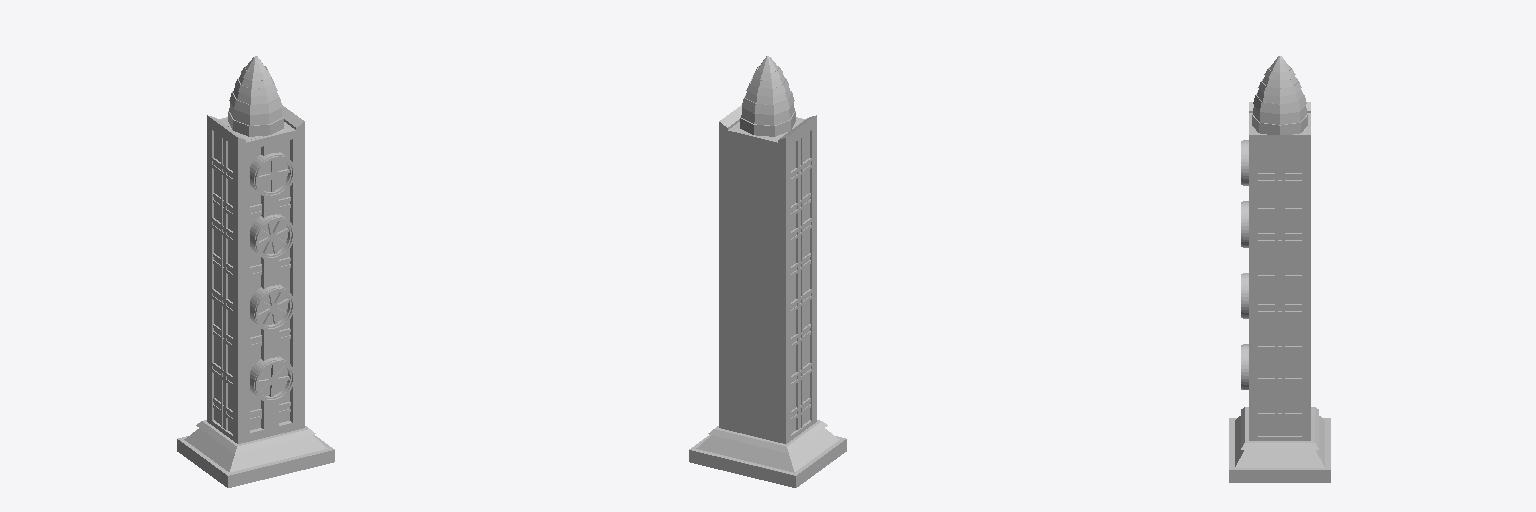
File: tower.obj
The picture shows the model from 3 angles: view 1: azimuth 30°, elevation 25°; view 2: azimuth 150°, elevation 25°; view 3: azimuth 270°, elevation 25°; orthographic projection.
Visible parts, largest first — view 1: structure Pillar, Pillar logos, Pillar detail, Pillar detail1, Pillar detail3; view 2: structure Pillar, Pillar detail, Pillar detail3; view 3: structure Pillar, Pillar detail, Pillar detail2, Pillar logos.
Part boxes in pixels (x1,y1,x2,y2): structure Pillar: (177,56,334,487); Pillar logos: (250,152,294,401); Pillar detail: (212,137,232,429); Pillar detail1: (250,197,290,421); Pillar detail3: (213,193,232,421); structure Pillar: (689,56,846,487); Pillar detail: (791,137,811,429); Pillar detail3: (791,193,810,421); structure Pillar: (1229,56,1330,482); Pillar detail: (1258,146,1301,435); Pillar detail2: (1258,208,1301,422); Pillar logos: (1241,140,1248,389).
Size of the model in its own units: 0.366 by 1.31 by 0.3016.